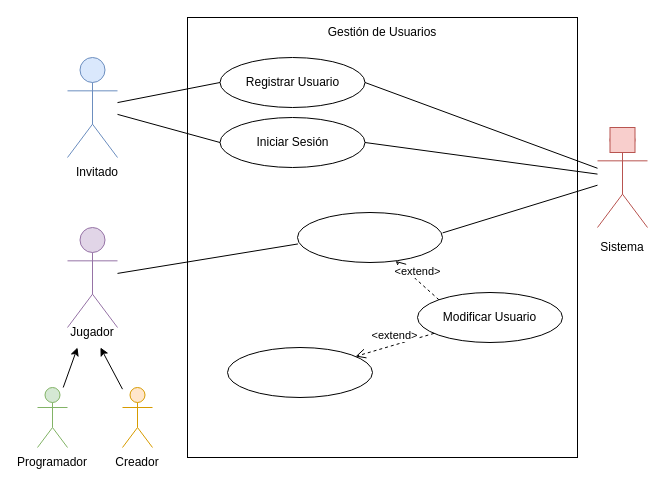
The diagram is 669 pixels wide and 495 high, and some of its shapes have lost their labels. Each missing label, with the box of its shape:
Eliminar Usuario: (226, 346, 372, 398)
Listar Datos Usuario: (296, 212, 442, 262)
